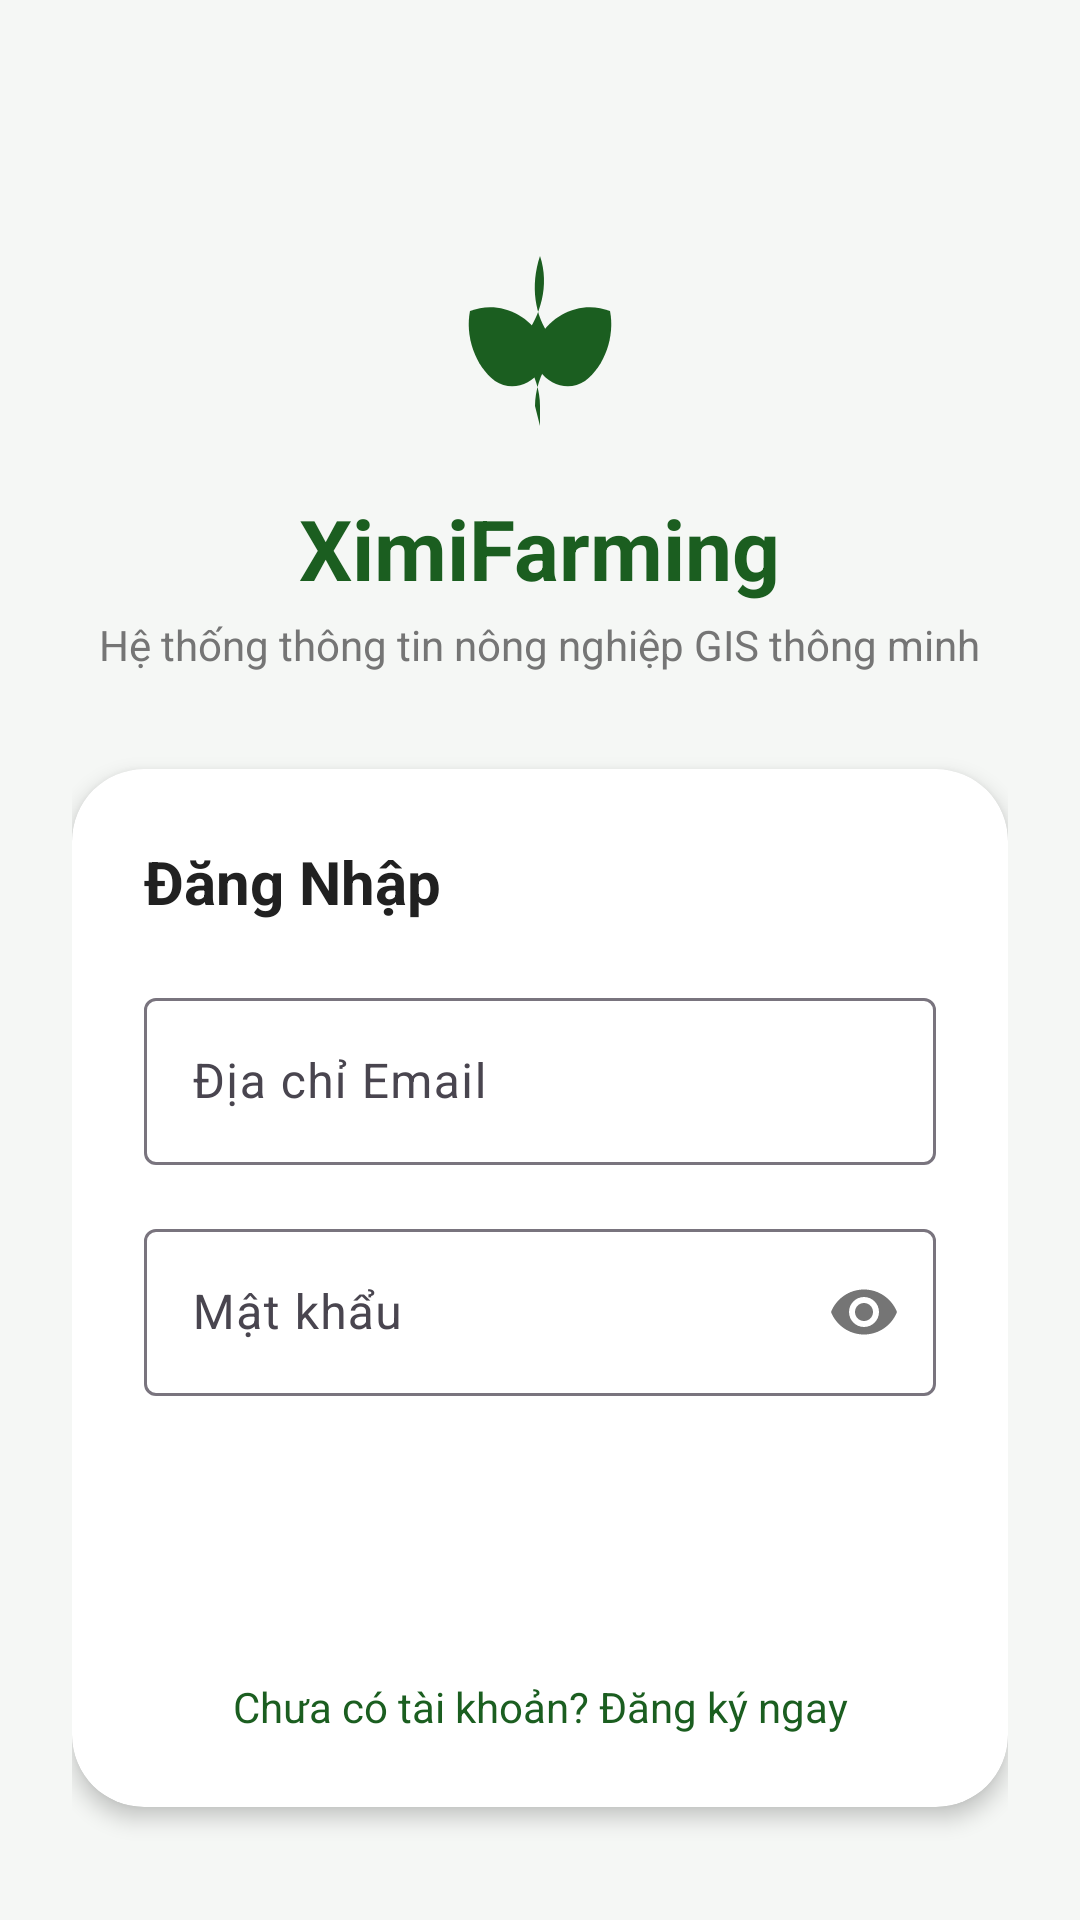

Named icons in this screenshot (1080px x 1920px) and their centers, (x=x, y=y):
sprout: (x=540, y=341)
